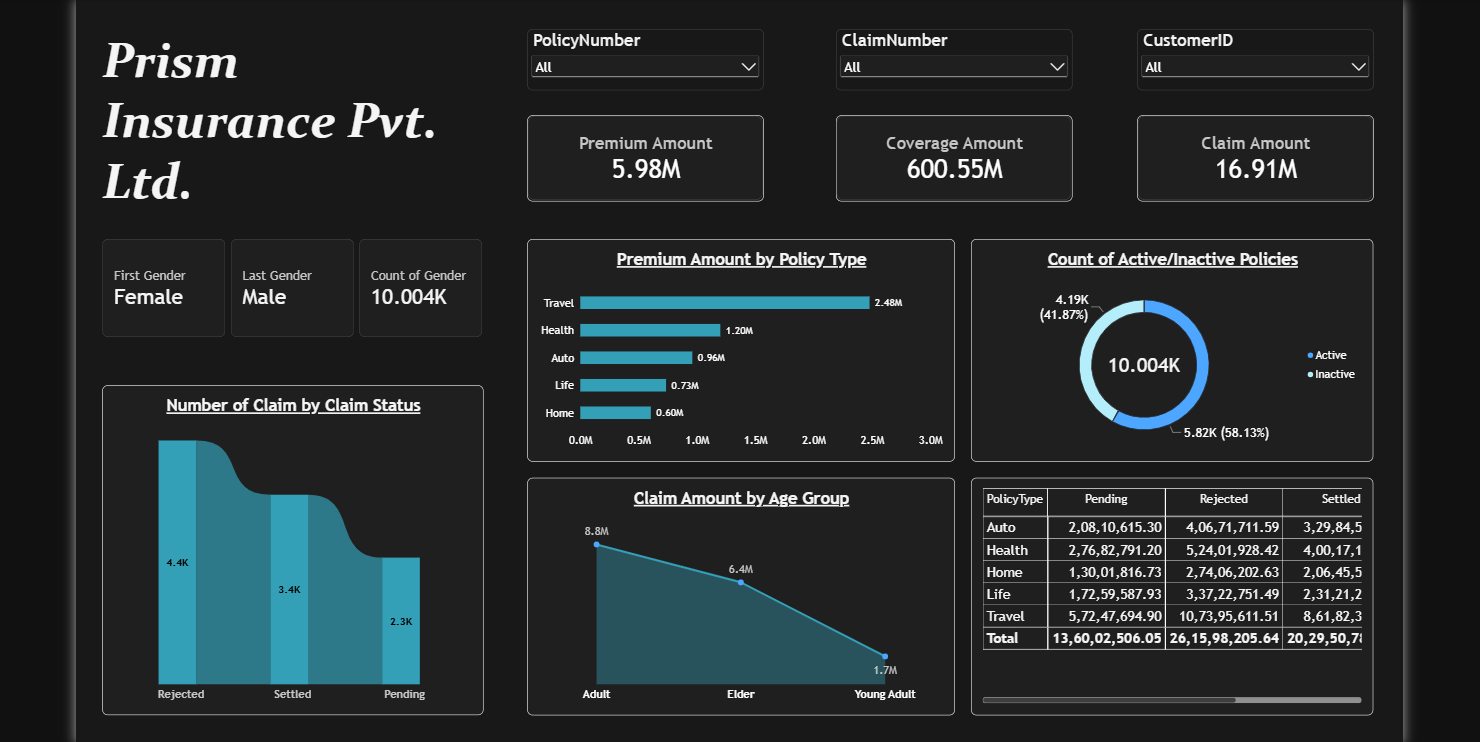

The dashboard page shown, as its layout file describes it:
{"tool":"powerbi","page":{"name":"Page 1","canvas":[1920,1080],"ordinal":0},"visuals":[{"type":"slicer","fields":{"Values":["InsuranceData.PolicyNumber"]},"box":[653.3,43.4,342,88.7],"z":0},{"type":"slicer","fields":{"Values":["InsuranceData.ClaimNumber"]},"box":[1100.3,43.4,342,88.7],"z":1000},{"type":"slicer","fields":{"Values":["InsuranceData.CustomerID"]},"box":[1536.4,43.4,342,88.7],"z":2000},{"type":"textbox","box":[38,43.4,488.6,291.4],"z":3000},{"type":"cardVisual","fields":{"Data":["Sum(InsuranceData.PremiumAmount)"]},"box":[653.3,168.3,342,124.9],"z":4000},{"type":"cardVisual","fields":{"Data":["Sum(InsuranceData.CoverageAmount)"]},"box":[1100.3,168.3,342,124.9],"z":5000},{"type":"cardVisual","fields":{"Data":["Sum(InsuranceData.ClaimAmount)"]},"box":[1536.4,168.3,342,124.9],"z":6000},{"type":"cardVisual","fields":{"Data":["Min(InsuranceData.Gender)1","Max(InsuranceData.Gender)","CountNonNull(InsuranceData.Gender)"]},"box":[38,347.5,551.9,143],"z":7000},{"type":"ribbonChart","title":"Number of Claim by Claim Status","fields":{"Category":["InsuranceData.ClaimStatus"],"Y":["CountNonNull(InsuranceData.ClaimStatus)"]},"box":[38,559.2,551.9,477.8],"z":8000},{"type":"barChart","title":"Premium Amount by Policy Type","fields":{"Category":["InsuranceData.PolicyType"],"Y":["Sum(InsuranceData.PremiumAmount)"]},"box":[653.3,347.5,618.9,322.1],"z":9000},{"type":"lineChart","title":"Claim Amount by Age Group","fields":{"Category":["InsuranceData.Age Group"],"Y":["Sum(InsuranceData.ClaimAmount)"]},"box":[653.3,693.1,618.9,343.8],"z":10000},{"type":"donutChart","title":"Count of Active/Inactive Policies","fields":{"Category":["InsuranceData.Active/Inactive"],"Y":["CountNonNull(InsuranceData.Active/Inactive)"]},"box":[1295.7,347.5,582.7,322.1],"z":11000},{"type":"pivotTable","fields":{"Columns":["InsuranceData.ClaimStatus"],"Rows":["InsuranceData.PolicyType"],"Values":["Sum(InsuranceData.CoverageAmount)"]},"box":[1295.7,693.1,582.7,343.8],"z":12000}]}

Visuals, with their boxes on the page's 1920x1080 design canvas (x1, y1, x2, y2). These are canvas units, not pixel positions in the 1480x742 screenshot, which may show the page scaled, cropped or inside an application window:
slicer - InsuranceData.PolicyNumber: (x1=653, y1=43, x2=995, y2=132)
slicer - InsuranceData.ClaimNumber: (x1=1100, y1=43, x2=1442, y2=132)
slicer - InsuranceData.CustomerID: (x1=1536, y1=43, x2=1878, y2=132)
textbox: (x1=38, y1=43, x2=527, y2=335)
cardVisual - Sum(InsuranceData.PremiumAmount): (x1=653, y1=168, x2=995, y2=293)
cardVisual - Sum(InsuranceData.CoverageAmount): (x1=1100, y1=168, x2=1442, y2=293)
cardVisual - Sum(InsuranceData.ClaimAmount): (x1=1536, y1=168, x2=1878, y2=293)
cardVisual - Min(InsuranceData.Gender)1 x Max(InsuranceData.Gender): (x1=38, y1=348, x2=590, y2=490)
"Number of Claim by Claim Status" ribbonChart: (x1=38, y1=559, x2=590, y2=1037)
"Premium Amount by Policy Type" barChart: (x1=653, y1=348, x2=1272, y2=670)
"Claim Amount by Age Group" lineChart: (x1=653, y1=693, x2=1272, y2=1037)
"Count of Active/Inactive Policies" donutChart: (x1=1296, y1=348, x2=1878, y2=670)
pivotTable - InsuranceData.ClaimStatus x InsuranceData.PolicyType: (x1=1296, y1=693, x2=1878, y2=1037)
